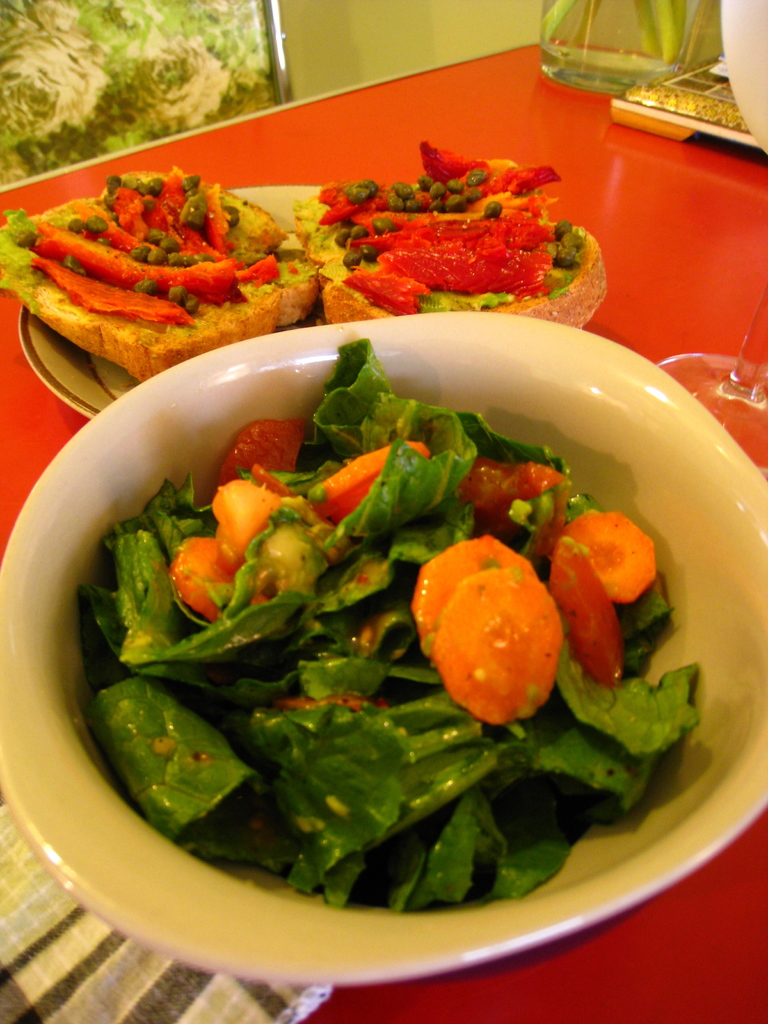salad: (68, 323, 721, 925)
